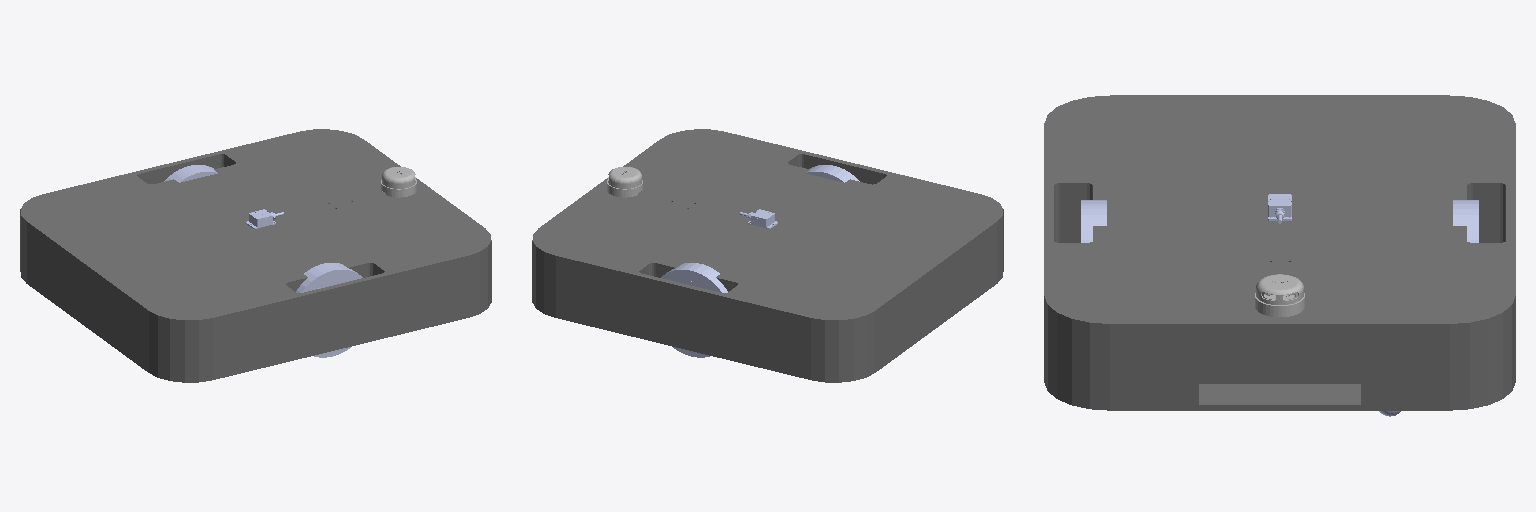
URDF robot description (amr):
<?xml version="1.0"?>
<robot name="amr">

  <!--
    Geometry is taken from the supplied CAD URDF/STL files.

    Coordinate convention:
      +X forward, +Y left, +Z up.

    Physical wheel-joint track:       0.594 m (joint Y = +/-0.297 m)
    Effective kinematic separation:   0.636 m

    The effective value belongs in the differential-drive controller and
    wheel-odometry equations; it must not be used to move the wheel joints.
  -->

  <material name="chassis_gray">
    <color rgba="0.502 0.502 0.502 1.0"/>
  </material>
  <material name="component_gray">
    <color rgba="0.792 0.820 0.933 1.0"/>
  </material>
  <material name="lidar_gray">
    <color rgba="0.753 0.753 0.753 0.8"/>
  </material>

  <!-- Root navigation frame at ground level. Keep it massless for KDL. -->
  <link name="base_foot_link"/>

  <link name="base_link">
    <inertial>
      <!-- Camera mass/inertia is merged into the base so the LiDAR-only model remains exactly 80 kg. -->
      <origin xyz="-0.01641684226393 -2.127036027730e-08 0.01536357867772" rpy="0 0 0"/>
      <mass value="77.76660059782901"/>
      <inertia
        ixx="3.2338238997685766"
        ixy="6.94917763249993e-07"
        ixz="-0.010447117841865663"
        iyy="4.5790630022931795"
        iyz="-5.34948547228727e-08"
        izz="7.535284316709289"/>
    </inertial>

    <visual>
      <origin xyz="0 0 0" rpy="0 0 0"/>
      <geometry>
        <mesh filename="package://agv_mujoco_sim/meshes/base_link.STL"/>
      </geometry>
      <material name="chassis_gray"/>
    </visual>

    <!--
      Three primitive boxes approximate the chassis while leaving clearance
      around the two driven wheels. They replace the high-poly collision mesh.
    -->
    <collision name="rear_chassis_collision">
      <origin xyz="-0.322 0 0.015" rpy="0 0 0"/>
      <geometry>
        <box size="0.200 0.714 0.145"/>
      </geometry>
    </collision>
    <collision name="center_chassis_collision">
      <origin xyz="-0.012 0 0.015" rpy="0 0 0"/>
      <geometry>
        <box size="0.420 0.500 0.145"/>
      </geometry>
    </collision>
    <collision name="front_chassis_collision">
      <origin xyz="0.298 0 0.015" rpy="0 0 0"/>
      <geometry>
        <box size="0.200 0.714 0.145"/>
      </geometry>
    </collision>
  </link>

  <joint name="base_link_jt" type="fixed">
    <origin xyz="0 0 0.1" rpy="0 0 0"/>
    <parent link="base_foot_link"/>
    <child link="base_link"/>
  </joint>

  <link name="left_wheel">
    <inertial>
      <origin xyz="-2.2767068983e-06 -4.0883539315e-07 -0.0141278415" rpy="0 0 0"/>
      <mass value="0.936684355982048"/>
      <inertia
        ixx="0.0029343491062"
        ixy="3.0243843436e-09"
        ixz="1.7611681221e-08"
        iyy="0.0029343328072"
        iyz="3.1625847890e-09"
        izz="0.0056452287041"/>
    </inertial>
    <visual>
      <geometry>
        <mesh filename="package://agv_mujoco_sim/meshes/left_wheel.STL"/>
      </geometry>
      <material name="component_gray"/>
    </visual>
    <collision>
      <geometry>
        <cylinder radius="0.1" length="0.056"/>
      </geometry>
    </collision>
  </link>

  <joint name="left_wheel_jt" type="continuous">
    <origin xyz="0 0.297 0" rpy="-1.57079632679 0 0"/>
    <parent link="base_link"/>
    <child link="left_wheel"/>
    <!-- Positive joint velocity produces forward motion (+X). -->
    <axis xyz="0 0 1"/>
    <dynamics damping="0.02" friction="0.0"/>
  </joint>

  <link name="right_wheel">
    <inertial>
      <origin xyz="2.0712286184e-06 -1.0298315041e-06 0.0141278415" rpy="0 0 0"/>
      <mass value="0.936684355982047"/>
      <inertia
        ixx="0.0029343462033"
        ixy="-6.9306759880e-09"
        ixz="1.6022183872e-08"
        iyy="0.0029343357101"
        iyz="-7.9663594389e-09"
        izz="0.0056452287041"/>
    </inertial>
    <visual>
      <geometry>
        <mesh filename="package://agv_mujoco_sim/meshes/right_wheel.STL"/>
      </geometry>
      <material name="component_gray"/>
    </visual>
    <collision>
      <geometry>
        <cylinder radius="0.1" length="0.056"/>
      </geometry>
    </collision>
  </link>

  <joint name="right_wheel_jt" type="continuous">
    <origin xyz="0 -0.297 0" rpy="-1.57079632679 0 0"/>
    <parent link="base_link"/>
    <child link="right_wheel"/>
    <!-- Positive joint velocity produces forward motion (+X). -->
    <axis xyz="0 0 1"/>
    <dynamics damping="0.02" friction="0.0"/>
  </joint>

  <link name="front_left_caster">
    <inertial>
      <origin xyz="0 0 -2.7371825402e-05" rpy="0 0 0"/>
      <mass value="0.0399091557703669"/>
      <inertia ixx="7.2111462855e-06" ixy="8.8035157662e-13" ixz="-8.7566291737e-14" iyy="7.2111444698e-06" iyz="2.1607959245e-13" izz="7.2594199749e-06"/>
    </inertial>
    <visual>
      <geometry><mesh filename="package://agv_mujoco_sim/meshes/front_left_caster.STL"/></geometry>
      <material name="component_gray"/>
    </visual>
    <collision><geometry><sphere radius="0.0212"/></geometry></collision>
  </link>
  <joint name="front_left_caster_jt" type="fixed">
    <origin xyz="0.323 0.167 -0.078807" rpy="0 0 0"/>
    <parent link="base_link"/><child link="front_left_caster"/>
  </joint>

  <link name="front_right_caster">
    <inertial>
      <origin xyz="0 0 -2.7371825402e-05" rpy="0 0 0"/>
      <mass value="0.0399091557703669"/>
      <inertia ixx="7.2111462855e-06" ixy="8.8035157716e-13" ixz="-8.7566300715e-14" iyy="7.2111444698e-06" iyz="2.1607958912e-13" izz="7.2594199749e-06"/>
    </inertial>
    <visual>
      <geometry><mesh filename="package://agv_mujoco_sim/meshes/front_right_caster.STL"/></geometry>
      <material name="component_gray"/>
    </visual>
    <collision><geometry><sphere radius="0.0212"/></geometry></collision>
  </link>
  <joint name="front_right_caster_jt" type="fixed">
    <origin xyz="0.323 -0.167 -0.078807" rpy="0 0 0"/>
    <parent link="base_link"/><child link="front_right_caster"/>
  </joint>

  <link name="rear_left_caster">
    <inertial>
      <origin xyz="0 0 -2.7371825402e-05" rpy="0 0 0"/>
      <mass value="0.0399091557703668"/>
      <inertia ixx="7.2111462855e-06" ixy="8.8035157366e-13" ixz="-8.7566301701e-14" iyy="7.2111444698e-06" iyz="2.1607958824e-13" izz="7.2594199749e-06"/>
    </inertial>
    <visual>
      <geometry><mesh filename="package://agv_mujoco_sim/meshes/rear_left_caster.STL"/></geometry>
      <material name="component_gray"/>
    </visual>
    <collision><geometry><sphere radius="0.0212"/></geometry></collision>
  </link>
  <joint name="rear_left_caster_jt" type="fixed">
    <origin xyz="-0.347 0.167 -0.078807" rpy="0 0 0"/>
    <parent link="base_link"/><child link="rear_left_caster"/>
  </joint>

  <link name="rear_right_caster">
    <inertial>
      <origin xyz="0 0 -2.7371825402e-05" rpy="0 0 0"/>
      <mass value="0.0399091557703668"/>
      <inertia ixx="7.2111459706e-06" ixy="-1.1169235652e-12" ixz="-1.2014432927e-13" iyy="7.2111447847e-06" iyz="-1.9980887354e-13" izz="7.2594199749e-06"/>
    </inertial>
    <visual>
      <geometry><mesh filename="package://agv_mujoco_sim/meshes/rear_right_caster.STL"/></geometry>
      <material name="component_gray"/>
    </visual>
    <collision><geometry><sphere radius="0.0212"/></geometry></collision>
  </link>
  <joint name="rear_right_caster_jt" type="fixed">
    <origin xyz="-0.347 -0.167 -0.078807" rpy="0 0 0"/>
    <parent link="base_link"/><child link="rear_right_caster"/>
  </joint>

  <link name="imu">
    <inertial>
      <origin xyz="0.0023989165 0 -0.0108251693" rpy="0 0 0"/>
      <mass value="0.0350113154456988"/>
      <inertia ixx="4.9486481208e-06" ixy="2.0030538049e-12" ixz="-1.7595997497e-08" iyy="8.8682844667e-06" iyz="6.5460652693e-23" izz="1.1262903048e-05"/>
    </inertial>
    <visual>
      <geometry><mesh filename="package://agv_mujoco_sim/meshes/imu.STL"/></geometry>
      <material name="component_gray"/>
    </visual>
  </link>
  <joint name="imu_jt" type="fixed">
    <origin xyz="0 0 0.1091" rpy="0 0 0"/>
    <parent link="base_link"/><child link="imu"/>
  </joint>

  <link name="lidar">
    <inertial>
      <origin xyz="0.0038697684 -1.4554375616e-05 -0.0055496380" rpy="0 0 0"/>
      <mass value="0.165382751635991"/>
      <inertia ixx="7.8865183611e-05" ixy="4.8471764092e-08" ixz="2.1847944396e-06" iyy="7.5190291494e-05" iyz="2.8860157251e-08" izz="1.0994675306e-04"/>
    </inertial>
    <visual>
      <geometry><mesh filename="package://agv_mujoco_sim/meshes/lidar.STL"/></geometry>
      <material name="lidar_gray"/>
    </visual>
  </link>
  <joint name="lidar_jt" type="fixed">
    <origin xyz="0.33152 0 0.11235" rpy="0 0 0"/>
    <parent link="base_link"/><child link="lidar"/>
  </joint>

</robot>

--- Facts derived from the render (not from the file) ---
Views: 3 orthographic renders of the robot side by side, from view 1: azimuth 30°, elevation 25°; view 2: azimuth 150°, elevation 25°; view 3: azimuth 270°, elevation 25°.
Model amr with 10 links and 9 joints (2 continuous, 7 fixed), rooted at base_foot_link, posed every joint at zero.
Visible links, largest first — view 1: base_link, right_wheel, lidar, left_wheel; view 2: base_link, left_wheel, lidar, right_wheel; view 3: base_link, lidar, left_wheel, right_wheel, imu.
Boxes of the visible links, x1,y1,x2,y2 form: base_link: [20, 129, 491, 382]; right_wheel: [296, 263, 362, 357]; lidar: [381, 167, 416, 197]; left_wheel: [164, 165, 217, 182]; base_link: [532, 129, 1003, 382]; left_wheel: [661, 263, 727, 357]; lidar: [607, 167, 642, 197]; right_wheel: [806, 165, 859, 182]; base_link: [1044, 95, 1515, 410]; lidar: [1255, 274, 1304, 316]; left_wheel: [1453, 200, 1478, 242]; right_wheel: [1081, 200, 1106, 242]; imu: [1268, 194, 1291, 223].
Bounding box of the posed robot: 0.82 × 0.714 × 0.2285 m (x, y, z).
Meshes: 9 distinct files referenced, 8 mesh visuals loaded (8 binary STL); not drawn: 1 (reference not matched to a file when rendering).
